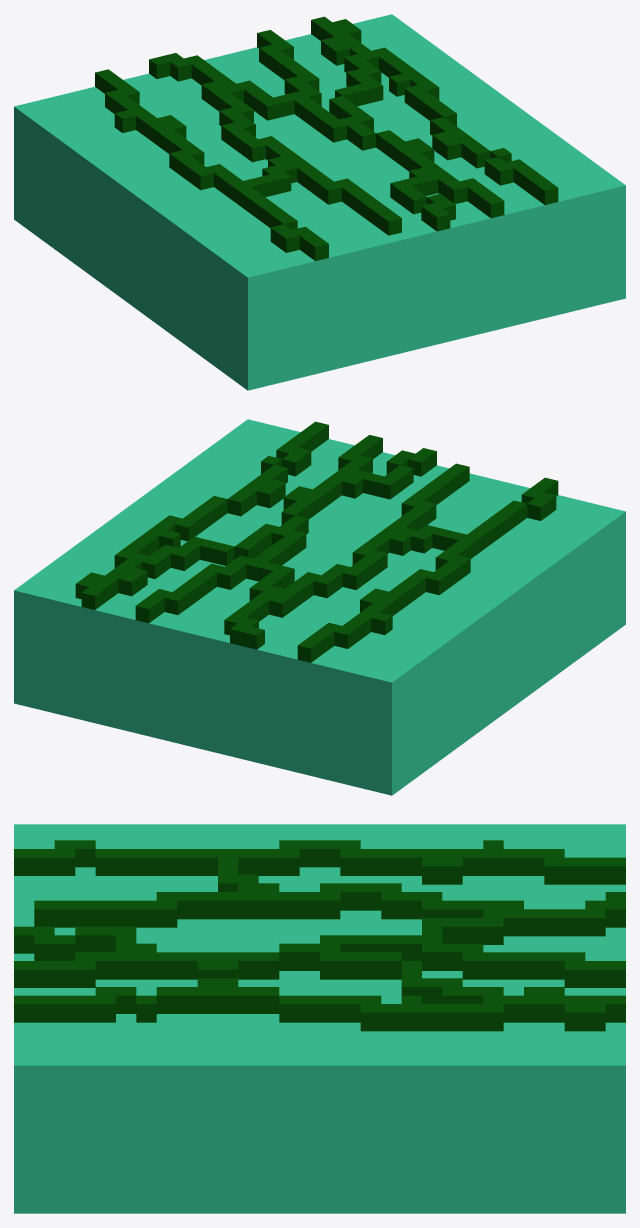
File: VineRockwall.dae
3 views of the same model, one above another, from view 1: azimuth 30°, elevation 25°; view 2: azimuth 150°, elevation 25°; view 3: azimuth 270°, elevation 25° (orthographic). The views are drawn at different scales.
Parts seen in each view (by area): view 1: VineRockwall; view 2: VineRockwall; view 3: VineRockwall.
Part boxes in pixels (x1,y1,x2,y2): VineRockwall: (14, 14, 625, 390); VineRockwall: (14, 419, 625, 795); VineRockwall: (14, 824, 625, 1213).
Bounding box in the file's own units: 2.8 × 0.9 × 3.
Materials: 1 (1 with a texture image).
